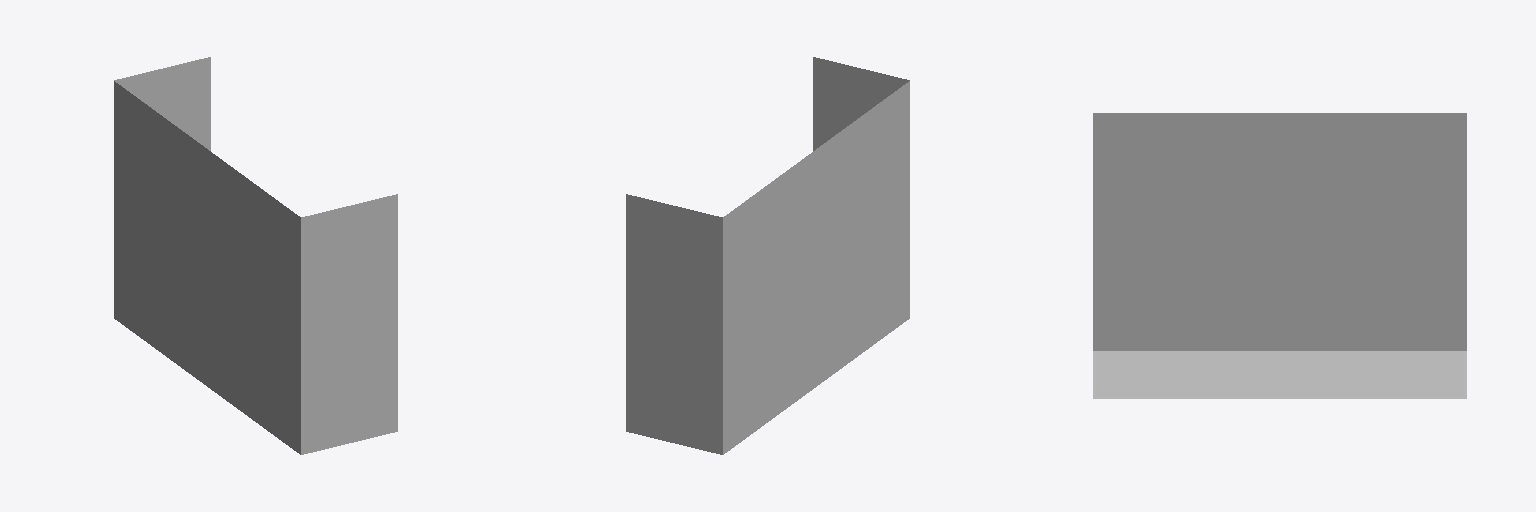
The model's file is bubbles.obj.
3 renders of one model, left to right at view 1: azimuth 30°, elevation 25°; view 2: azimuth 150°, elevation 25°; view 3: azimuth 270°, elevation 25°, orthographic.
Visible parts, largest first — view 1: bubbles.obj; view 2: bubbles.obj; view 3: bubbles.obj.
Part boxes in pixels (x1,y1,x2,y2): bubbles.obj: (114,57,397,454); bubbles.obj: (626,57,909,454); bubbles.obj: (1093,113,1466,398).
Bounding box in the file's own units: 0.3 × 0.7 × 1.